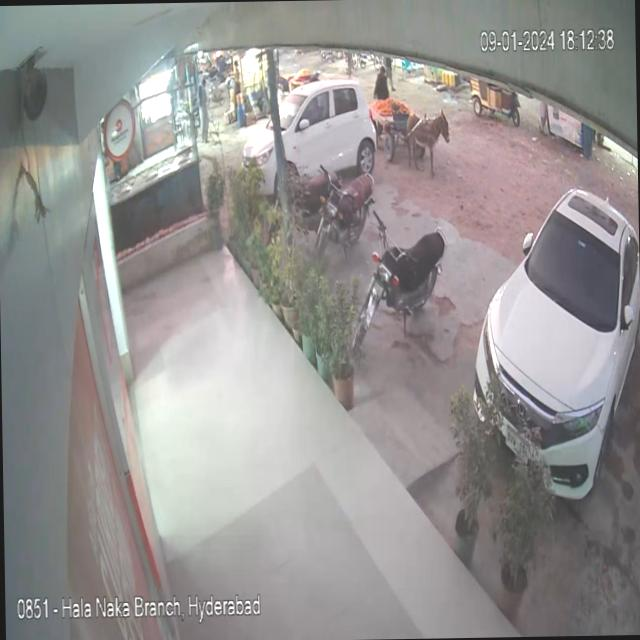Car: (466, 143, 640, 512), (220, 66, 380, 185)
Motorcycle: (348, 198, 457, 356), (316, 162, 381, 251)
